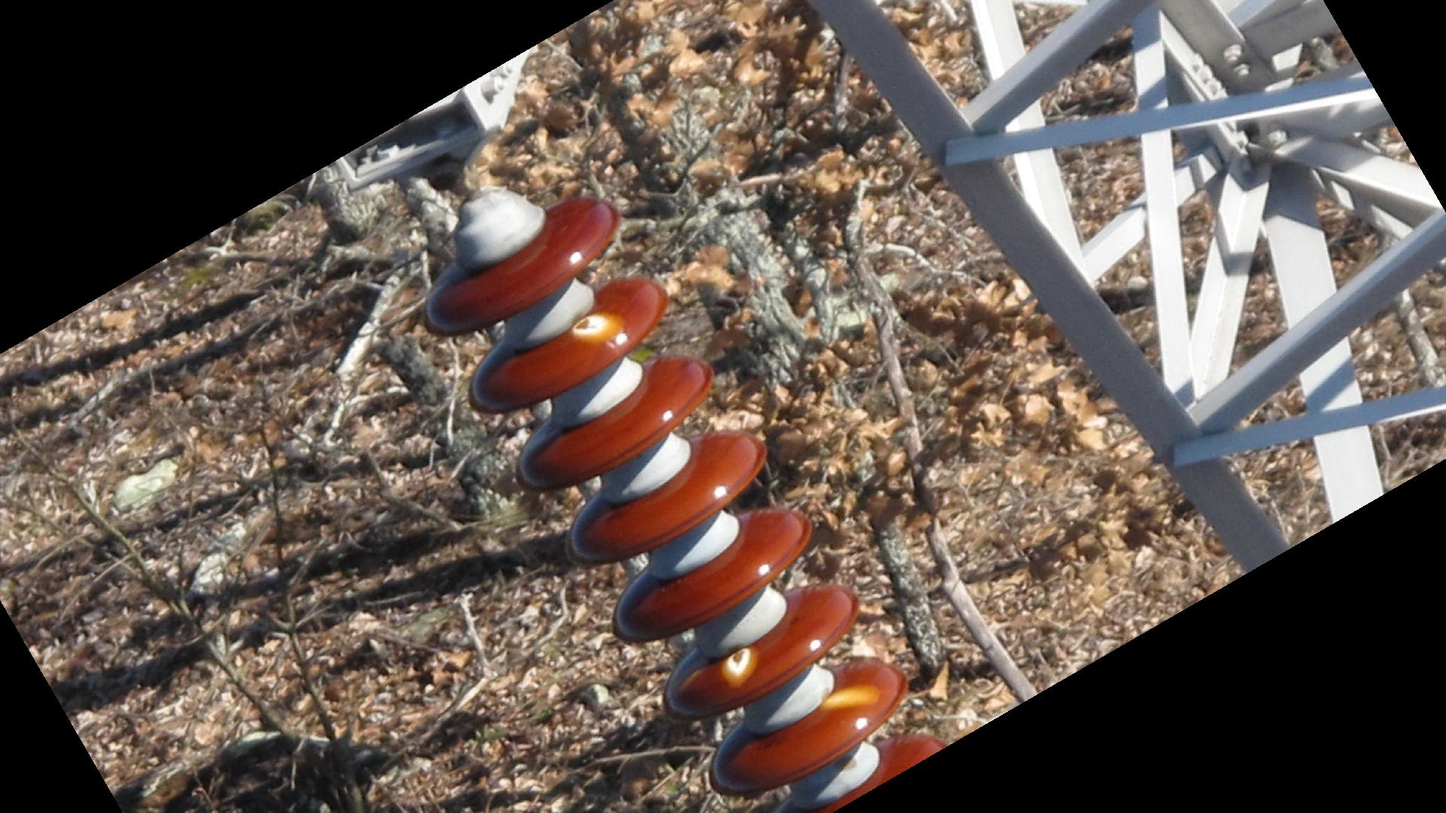insulator: (419, 190, 950, 813)
insulator_flashover: (569, 311, 630, 346), (820, 681, 883, 713), (718, 644, 761, 690)
